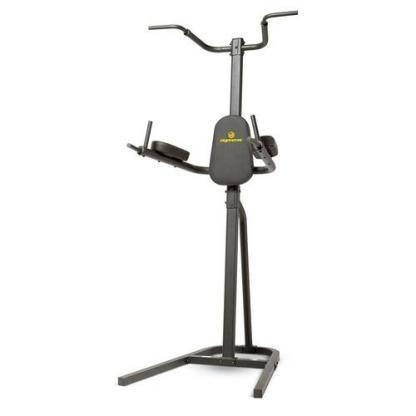chinning dipping: (119, 10, 300, 400)
